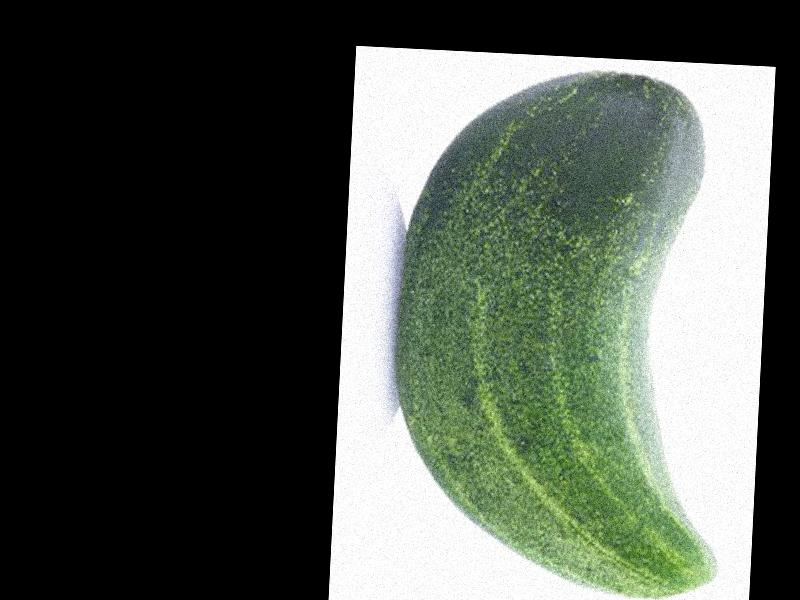Cucumber: (384, 61, 739, 600)
